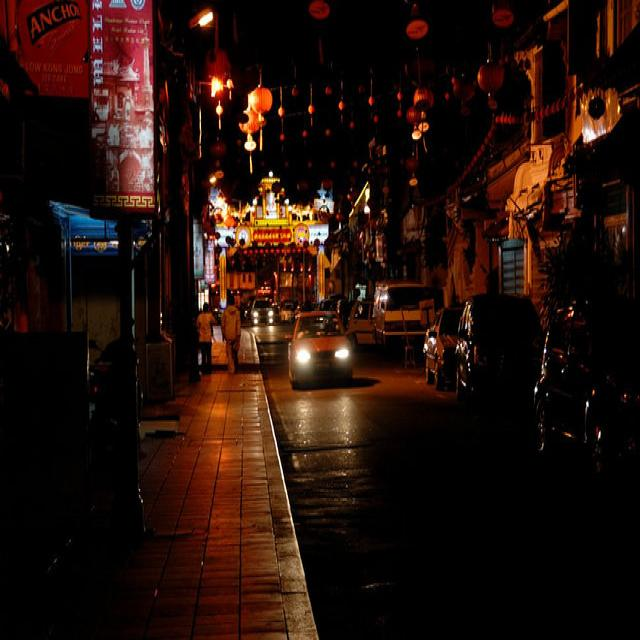Car: (543, 307, 633, 474), (422, 319, 536, 408), (271, 315, 357, 408), (372, 283, 438, 355), (248, 287, 278, 326)
